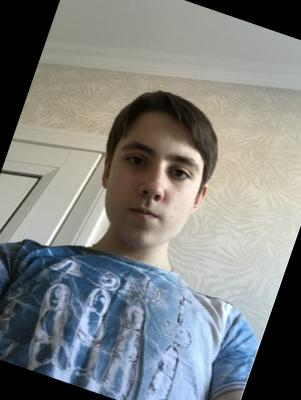without_mask: (88, 128, 210, 261)
